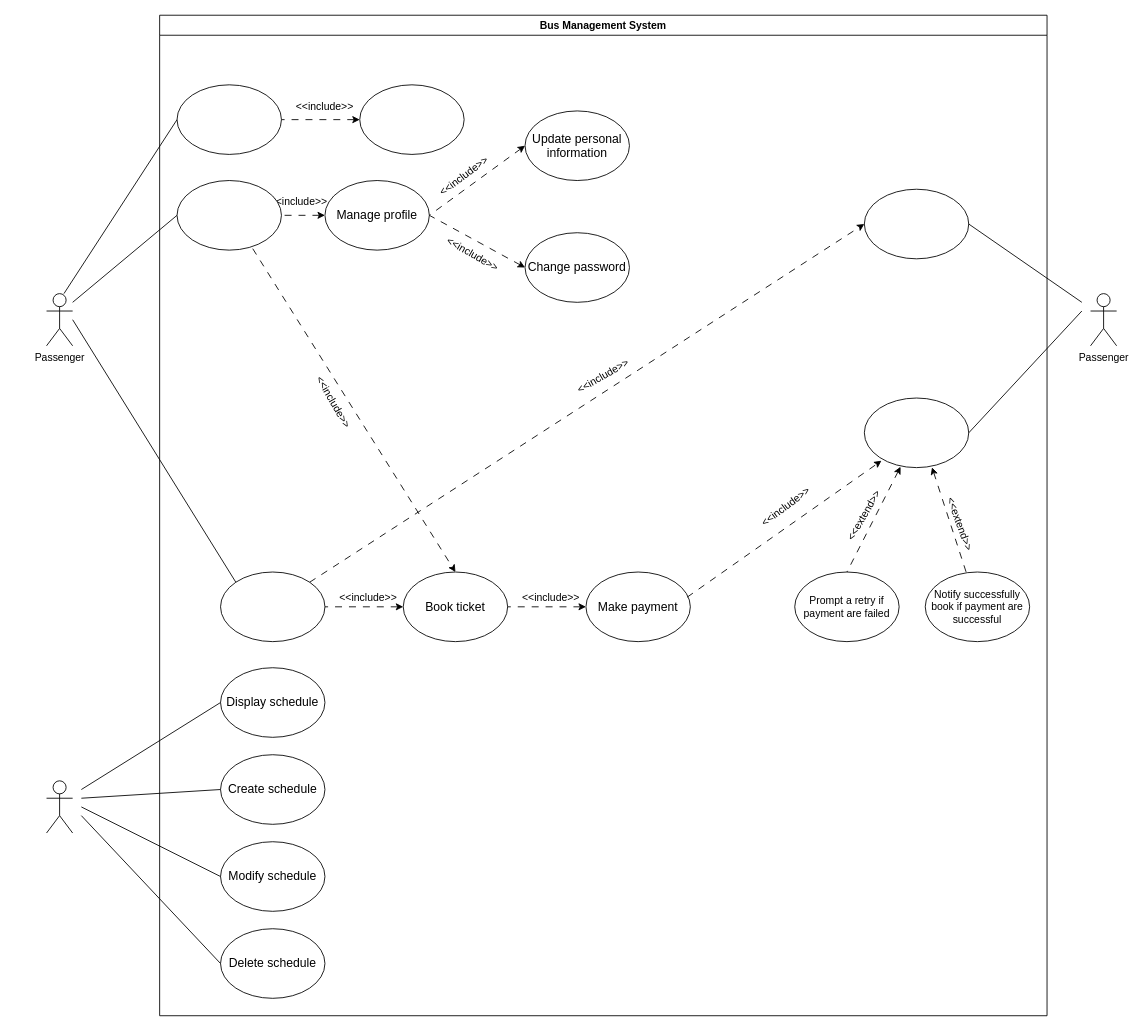
This 1143x1031 diagram has some shape labels left out. Here are the shapes that lost their labels. From the top down, the centre of each, then its label:
At [228,119]: "Create acount".
At [411,119]: "Fill registration information".
At [228,215]: "Log in".
At [916,223]: "Display available schedules and number of available seats".
At [916,432]: "Notify status of payment".
At [272,606]: "Search and select schedule".
At [59,806]: "Transport Operator".
